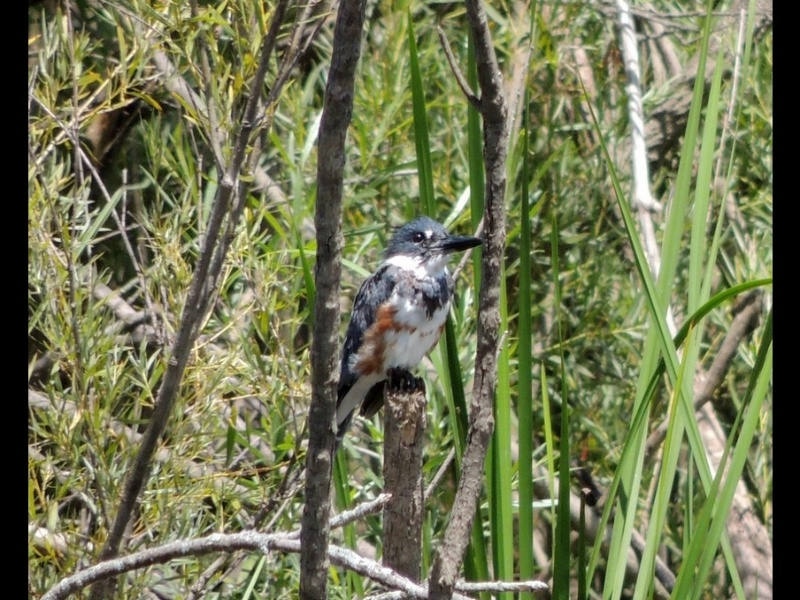kingfisher: (321, 212, 486, 439)
